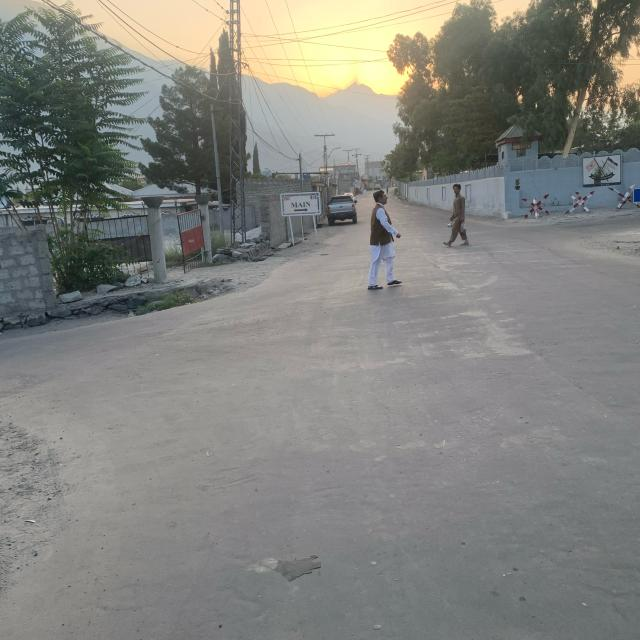Left-Turn: (0, 300, 201, 508)
Right-Turn: (510, 217, 640, 289)
straight: (356, 178, 479, 431)
